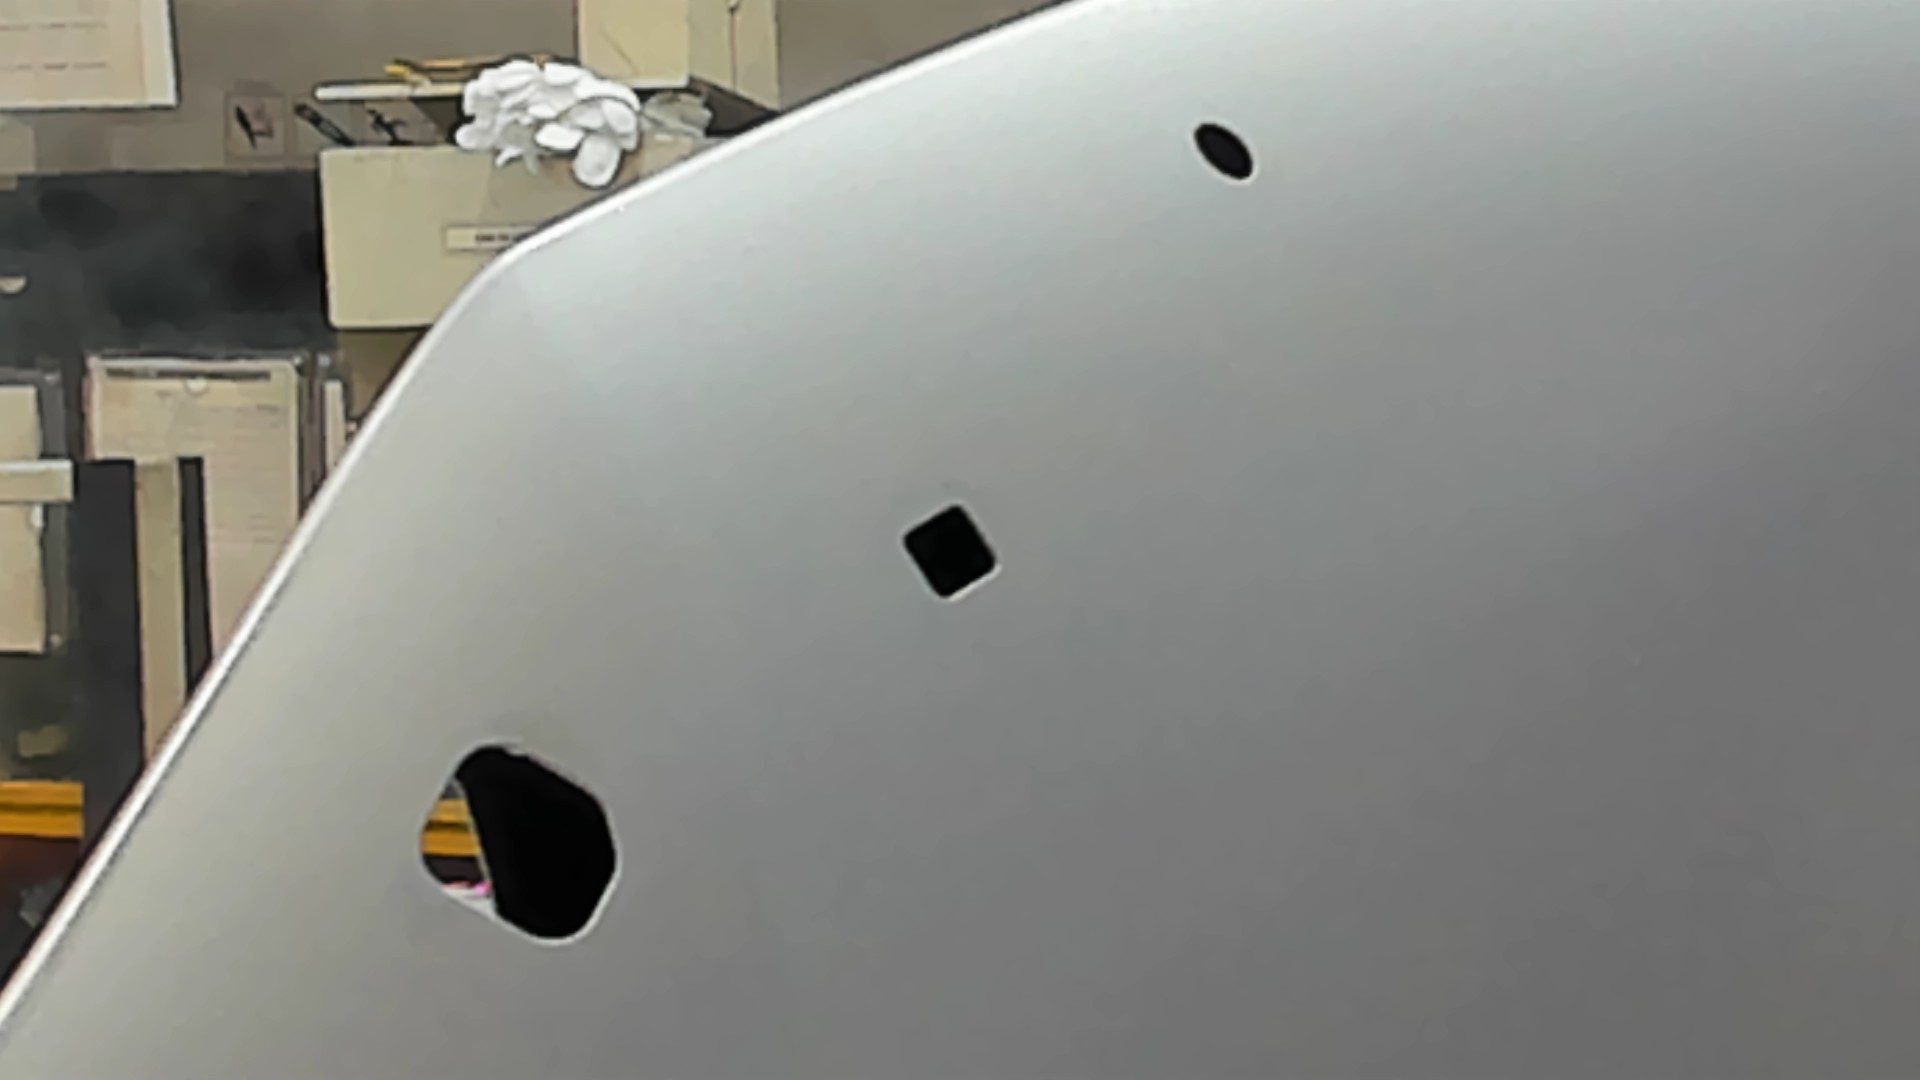Agujero: (901, 505, 1004, 603), (1191, 121, 1257, 181)
Agujerote: (418, 742, 618, 947)
